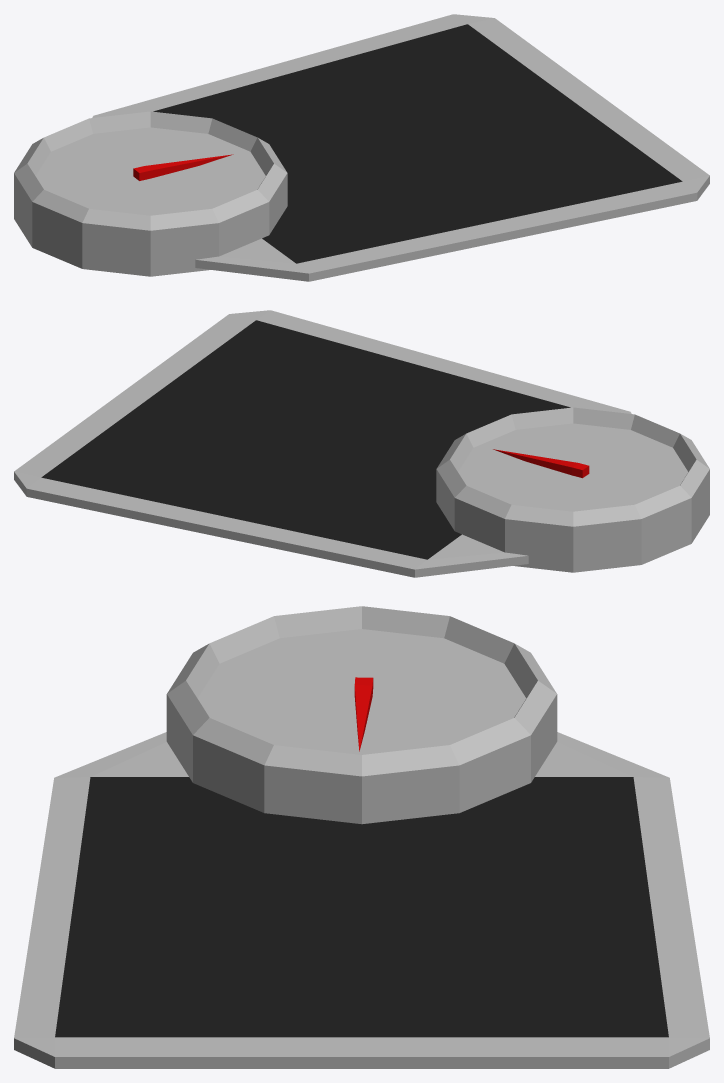
The model's file is WeightScale.003.fbx.
The picture shows the model from 3 angles, top to bottom: view 1: azimuth 30°, elevation 25°; view 2: azimuth 150°, elevation 25°; view 3: azimuth 270°, elevation 25°; orthographic projection. The views are drawn at different scales.
Visible parts, largest first — view 1: WeightScale.003; view 2: WeightScale.003; view 3: WeightScale.003.
Boxes of the visible parts, x1,y1,x2,y2 form: WeightScale.003: [14, 14, 709, 281]; WeightScale.003: [14, 310, 709, 577]; WeightScale.003: [14, 606, 709, 1068].
Bounding box in the file's own units: 48 × 4.46 × 35.56.
